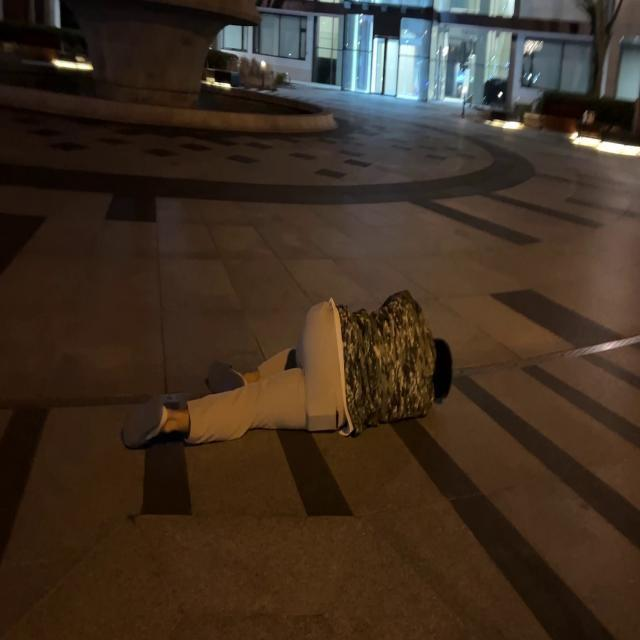Fall: (122, 291, 454, 450)
